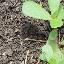Prickly Sida: (16, 0, 64, 64)
